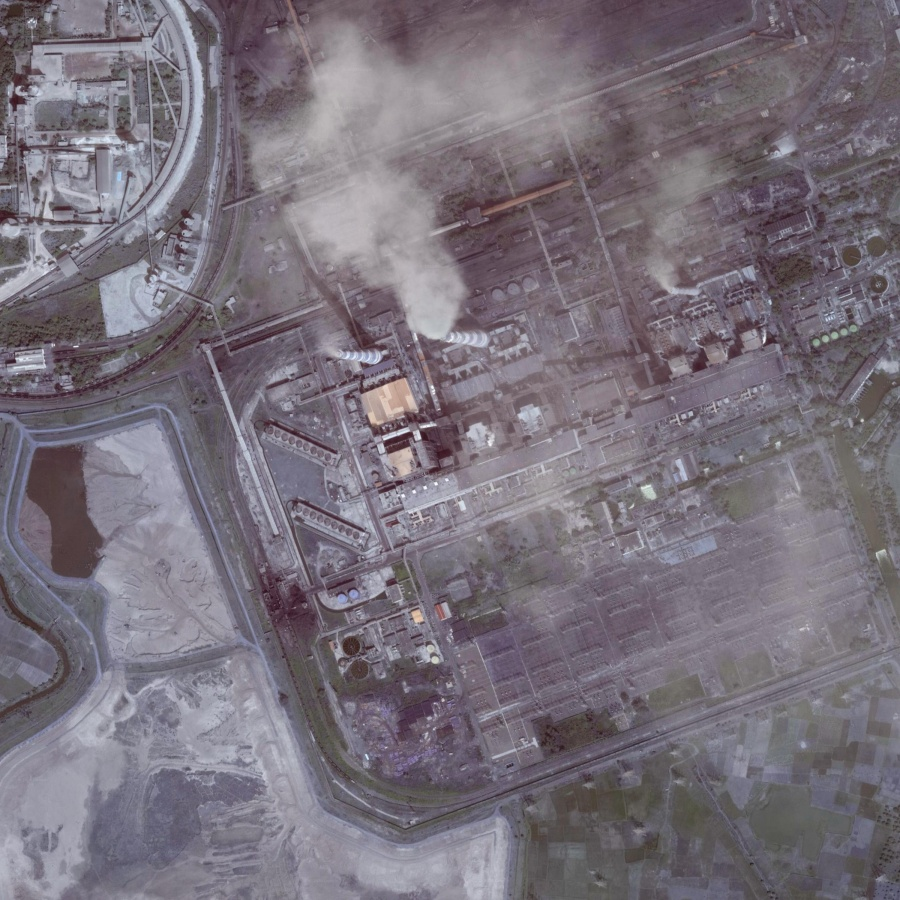PowerPlant: (285, 210, 769, 521)
